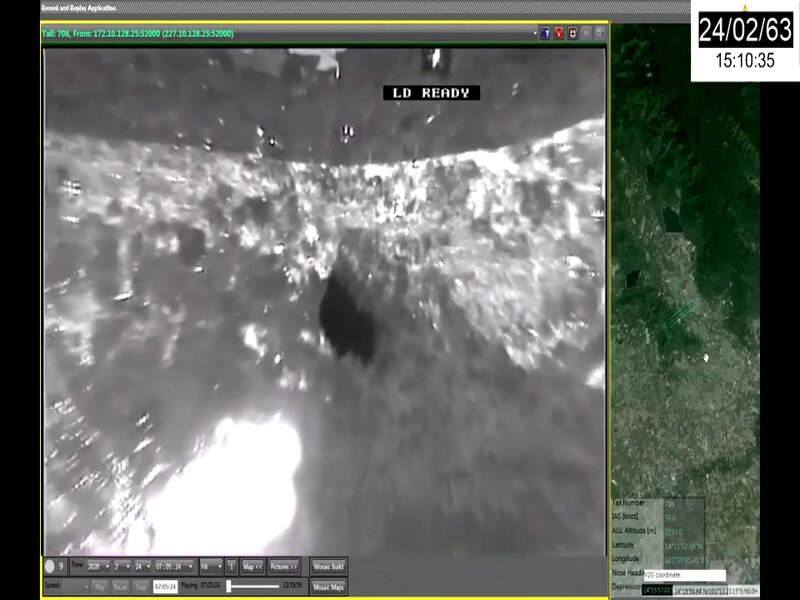Fire: (82, 416, 303, 555)
